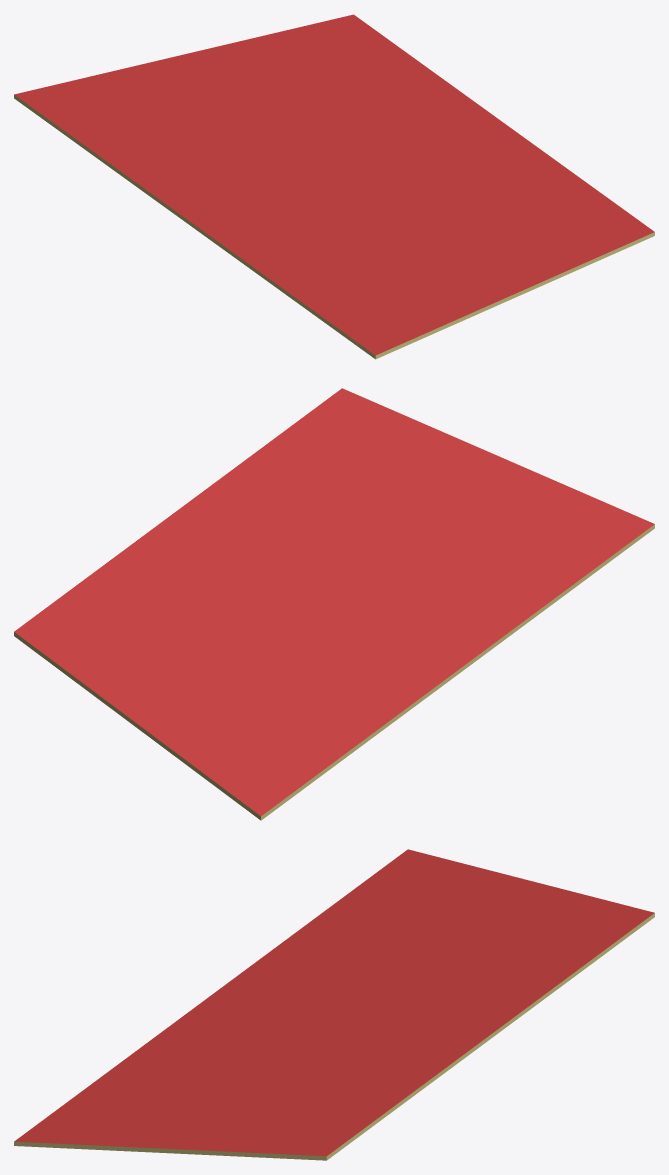
3 renders of one model, top to bottom at view 1: azimuth 30°, elevation 25°; view 2: azimuth 150°, elevation 25°; view 3: azimuth 330°, elevation 25°, orthographic. The views are drawn at different scales.
Bounding box in the file's own units: 7.61 × 16.61 × 1.5.
